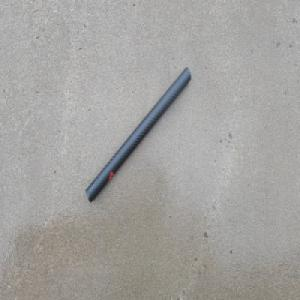LuggagePart: (85, 65, 192, 204)
